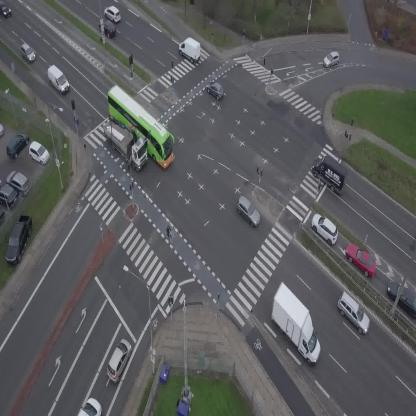bicycle: (163, 224, 174, 243)
bus: (95, 82, 185, 171)
car: (331, 290, 376, 336), (340, 238, 382, 281), (102, 337, 136, 384), (306, 209, 343, 247), (231, 194, 265, 229), (203, 77, 228, 101), (95, 16, 119, 41), (101, 2, 125, 25), (16, 41, 37, 65), (321, 49, 342, 69), (78, 398, 101, 416), (0, 0, 11, 18)
lorry: (256, 279, 337, 368), (94, 110, 157, 173), (306, 150, 355, 197), (175, 33, 207, 65), (43, 63, 73, 95)
